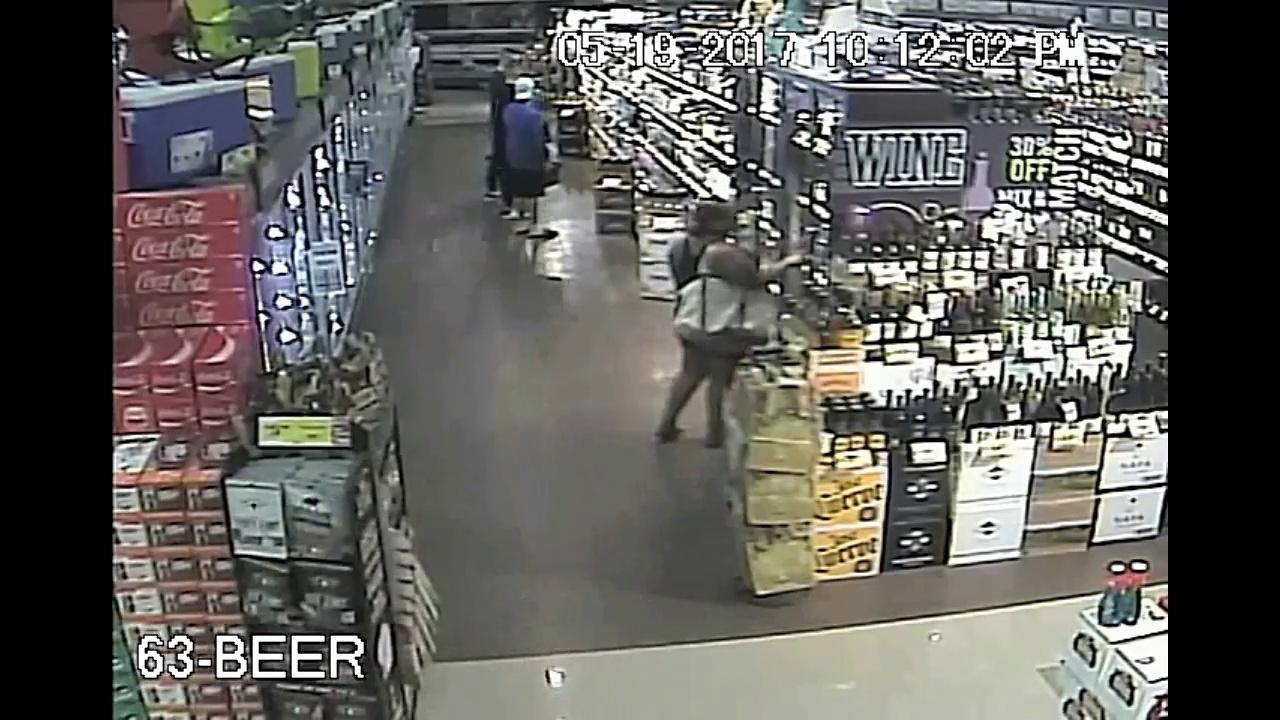3: (620, 165, 855, 463), (463, 35, 580, 259)
persone: (677, 270, 791, 354)
